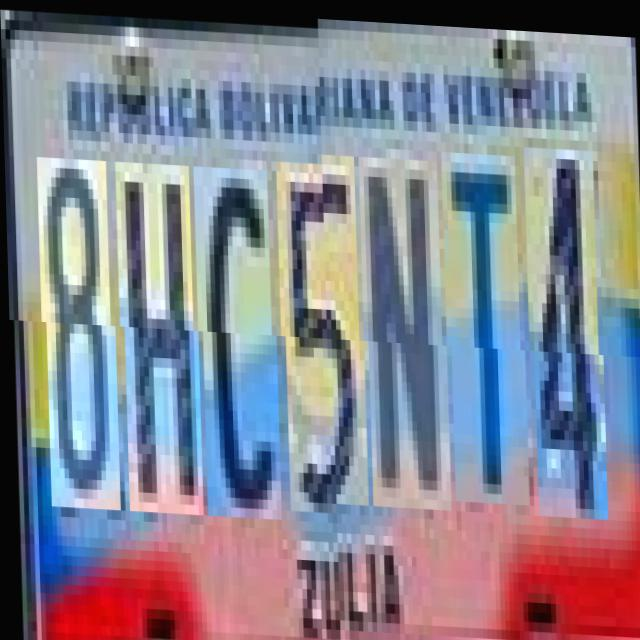4: (528, 150, 606, 522)
5: (279, 158, 366, 511)
8: (41, 157, 118, 509)
C: (196, 164, 278, 516)
H: (118, 160, 200, 512)
N: (362, 162, 450, 515)
T: (445, 157, 527, 509)
